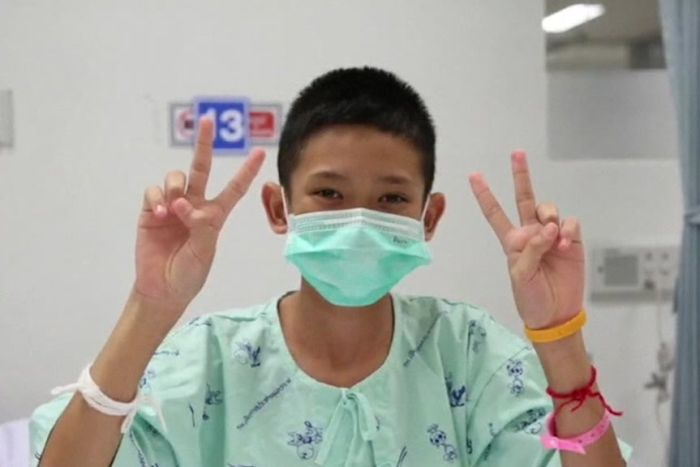surgical: (285, 205, 433, 309)
